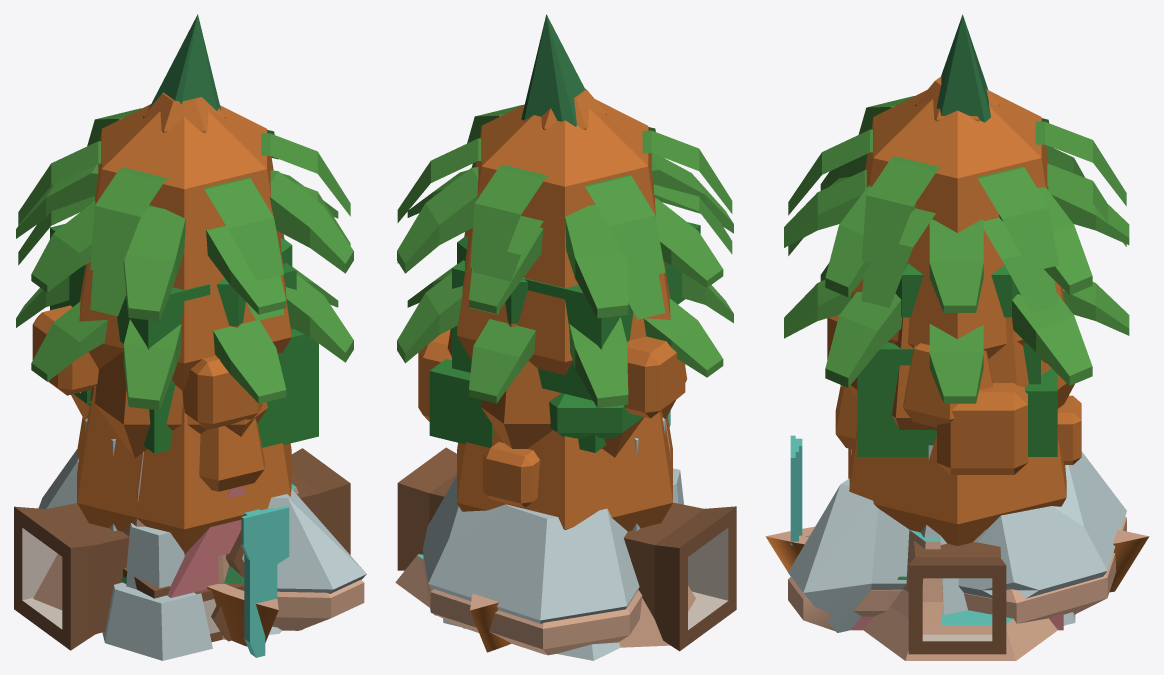
Rendered from nature.glb.
The picture shows the model from 3 angles, left to right: view 1: azimuth 30°, elevation 25°; view 2: azimuth 150°, elevation 25°; view 3: azimuth 270°, elevation 25°; orthographic projection.
Visible parts, largest first — view 1: tree_default_fall, log_large, tree_fat_fall, tree_palmDetailedTall, tree_palm, tree_palmDetailedShort, stone_tallB, tree_blocks_jungle, stone_largeB, tree_detailed_fall, hanging_moss, tree_oak_fall (+12 smaller); view 2: tree_default_fall, stone_largeB, log_large, tree_fat_fall, tree_palm, tree_palmDetailedTall, tree_palmDetailedShort, tree_blocks_jungle, tree_detailed_fall, rock_largeA, tree_palmShort, tree_palmTall (+8 smaller); view 3: stone_largeB, tree_default_fall, tree_palm, tree_fat_fall, tree_palmDetailedShort, tree_detailed_fall, tree_palmTall, tree_blocks_jungle, tree_palmDetailedTall, log_large, rock_tallA, tree_palmBend (+10 smaller).
Boxes of the visible parts, x1,y1,x2,y2 form: tree_default_fall: [79, 104, 291, 390]; log_large: [14, 448, 350, 650]; tree_fat_fall: [77, 385, 291, 554]; tree_palmDetailedTall: [16, 164, 353, 321]; tree_palm: [18, 108, 350, 281]; tree_palmDetailedShort: [16, 274, 353, 410]; stone_tallB: [102, 523, 282, 660]; tree_blocks_jungle: [50, 223, 318, 453]; stone_largeB: [38, 449, 366, 630]; tree_detailed_fall: [32, 305, 262, 429]; hanging_moss: [241, 505, 289, 657]; tree_oak_fall: [71, 324, 267, 457]; tree_default_fall: [457, 99, 670, 374]; stone_largeB: [422, 476, 639, 654]; log_large: [397, 447, 736, 651]; tree_fat_fall: [457, 410, 672, 531]; tree_palm: [397, 105, 732, 279]; tree_palmDetailedTall: [397, 153, 733, 318]; tree_palmDetailedShort: [397, 272, 733, 407]; tree_blocks_jungle: [429, 222, 700, 452]; tree_detailed_fall: [418, 329, 685, 507]; rock_largeA: [423, 554, 642, 655]; tree_palmShort: [407, 264, 707, 403]; tree_palmTall: [407, 170, 722, 313]; stone_largeB: [788, 451, 1126, 632]; tree_default_fall: [850, 90, 1064, 362]; tree_palm: [788, 96, 1126, 271]; tree_fat_fall: [848, 363, 1066, 545]; tree_palmDetailedShort: [784, 263, 1092, 402]; tree_detailed_fall: [827, 314, 1081, 474]; tree_palmTall: [784, 170, 1129, 312]; tree_blocks_jungle: [857, 290, 1057, 456]; tree_palmDetailedTall: [801, 145, 1092, 312]; log_large: [908, 541, 1006, 654]; rock_tallA: [863, 530, 1064, 660]; tree_palmBend: [788, 163, 1126, 312].
Bounding box in the file's own units: 1.03 × 1.93 × 1.15.
